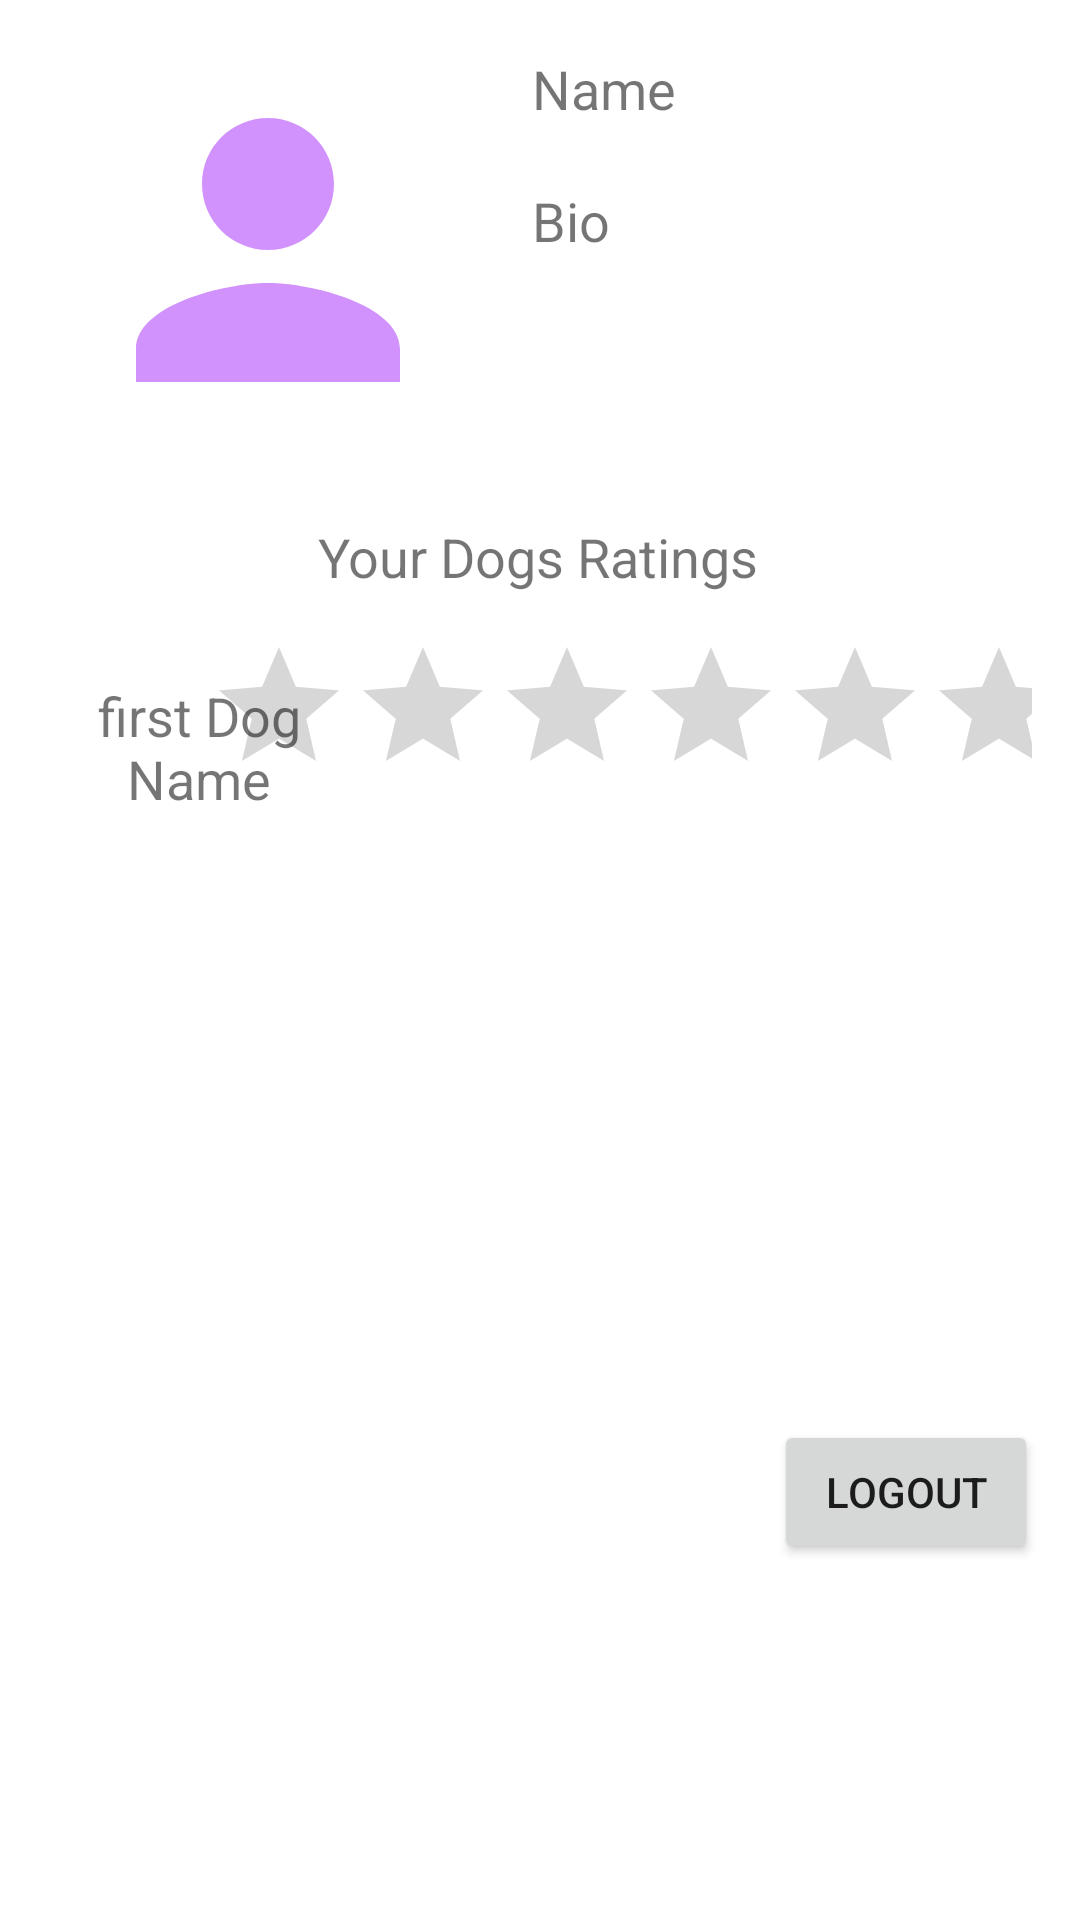

Locate icon controls on the screen. Image size 1080*1920, boxes as (x1, y1, x2, y2).
person: (136, 118, 400, 382)
